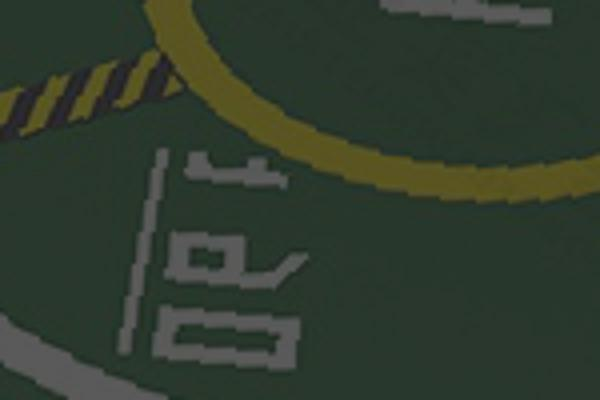Apron: (131, 2, 600, 228)
